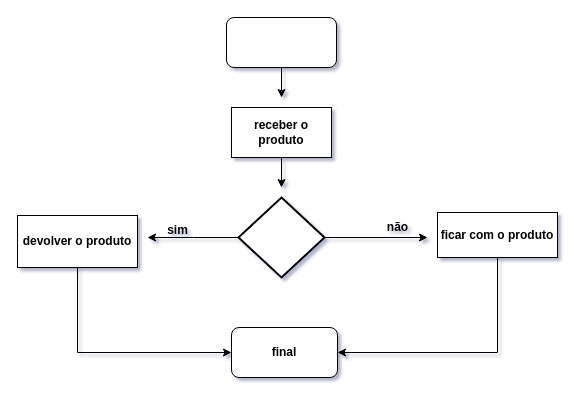
The diagram is 581 pixels wide and 401 high, and some of its shapes have lost their labels. Here are the shapes that lost their labels. From the top down, the centre of each, then its label:
the point at 281,42: inicio
the point at 281,237: produto estragado?
